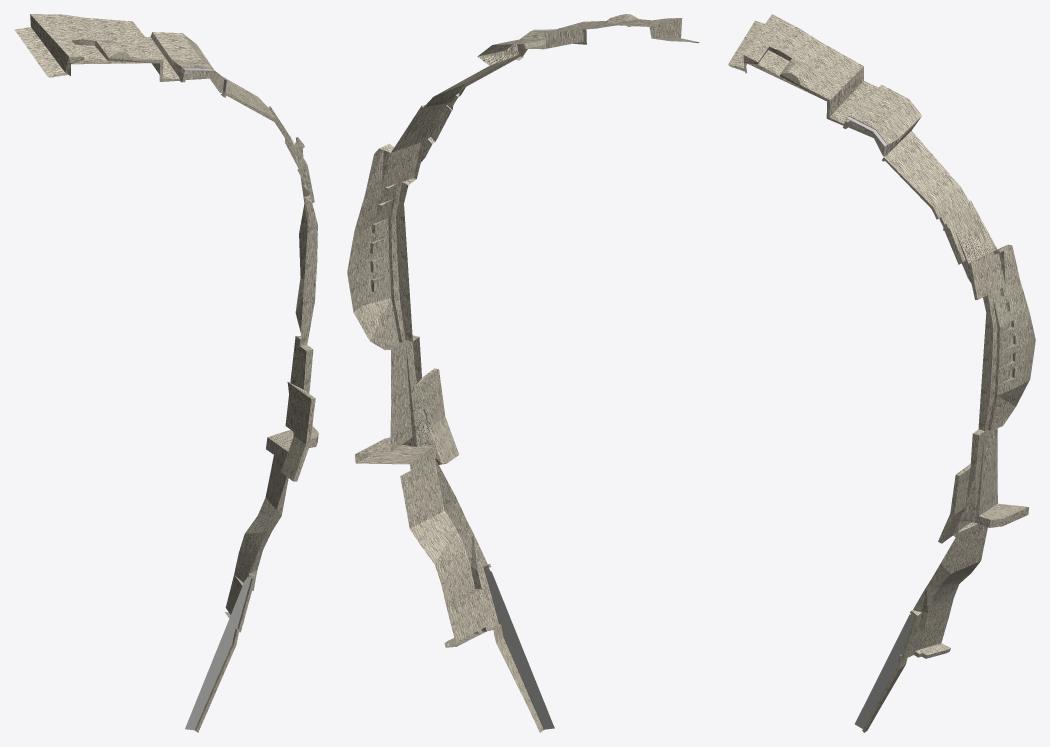
Rendered from Toompeamyyr_c.obj.
The picture shows the model from 3 angles, left to right: view 1: azimuth 30°, elevation 25°; view 2: azimuth 150°, elevation 25°; view 3: azimuth 330°, elevation 25°; orthographic projection. The views are drawn at different scales.
Visible parts, largest first — view 1: Toompeamyyr_c; view 2: Toompeamyyr_c; view 3: Toompeamyyr_c.
Part boxes in pixels (x1=…): Toompeamyyr_c: x1=14, y1=14, x2=318, y2=732; Toompeamyyr_c: x1=347, y1=14, x2=699, y2=732; Toompeamyyr_c: x1=728, y1=14, x2=1035, y2=732.
Bounding box in the file's own units: 67.95 × 160 × 20.1.
